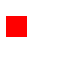square: (6, 16, 26, 36)
